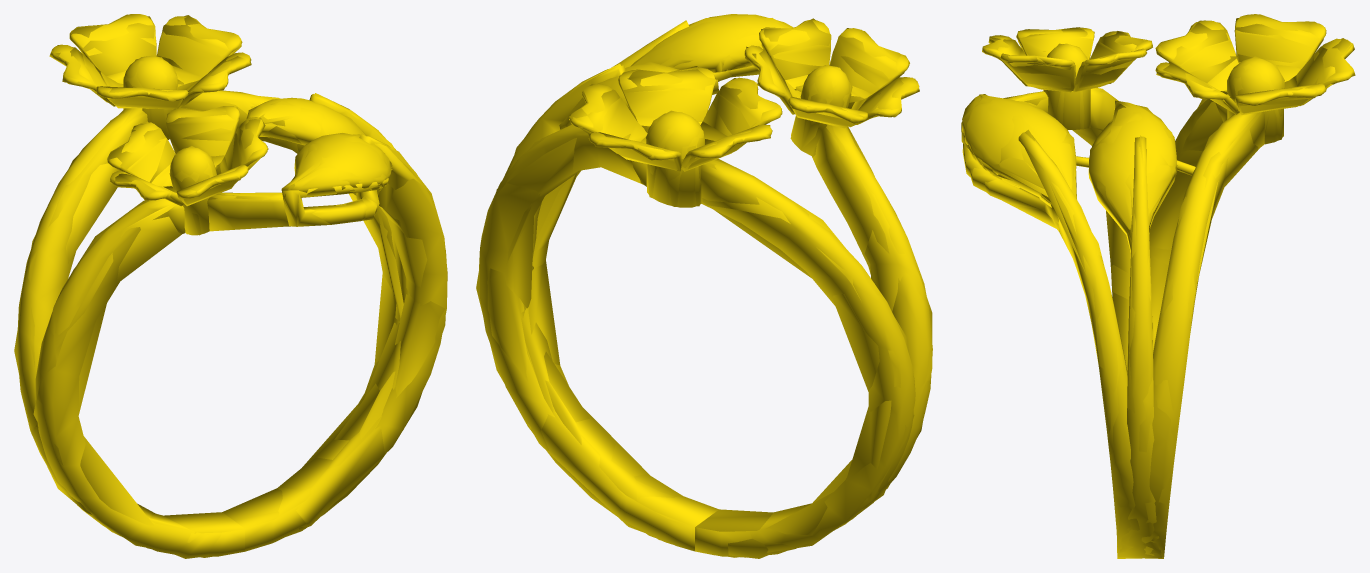
File: GLR-D000578753.glb
3 renders of one model, left to right at view 1: azimuth 30°, elevation 25°; view 2: azimuth 150°, elevation 25°; view 3: azimuth 270°, elevation 25°, orthographic. The views are drawn at different scales.
Parts seen in each view (by area): view 1: highPolyMesh, lowPolyMesh; view 2: highPolyMesh, lowPolyMesh; view 3: highPolyMesh, lowPolyMesh.
Part boxes in pixels (x1=…): highPolyMesh: x1=17, y1=14, x2=447, y2=556; lowPolyMesh: x1=14, y1=14, x2=447, y2=558; highPolyMesh: x1=479, y1=14, x2=932, y2=557; lowPolyMesh: x1=476, y1=18, x2=932, y2=558; highPolyMesh: x1=962, y1=14, x2=1353, y2=558; lowPolyMesh: x1=961, y1=14, x2=1355, y2=558.
Bounding box in the file's own units: 0.0205 × 0.022 × 0.0168.
